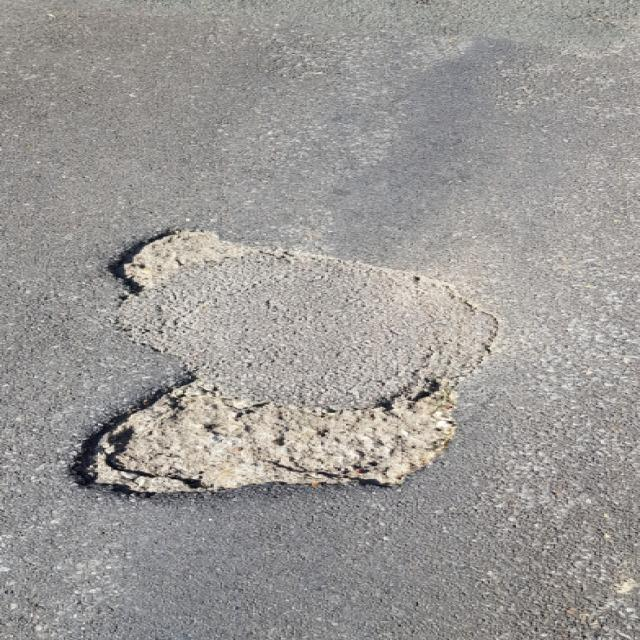pothole: (61, 368, 460, 498), (98, 222, 266, 295)
